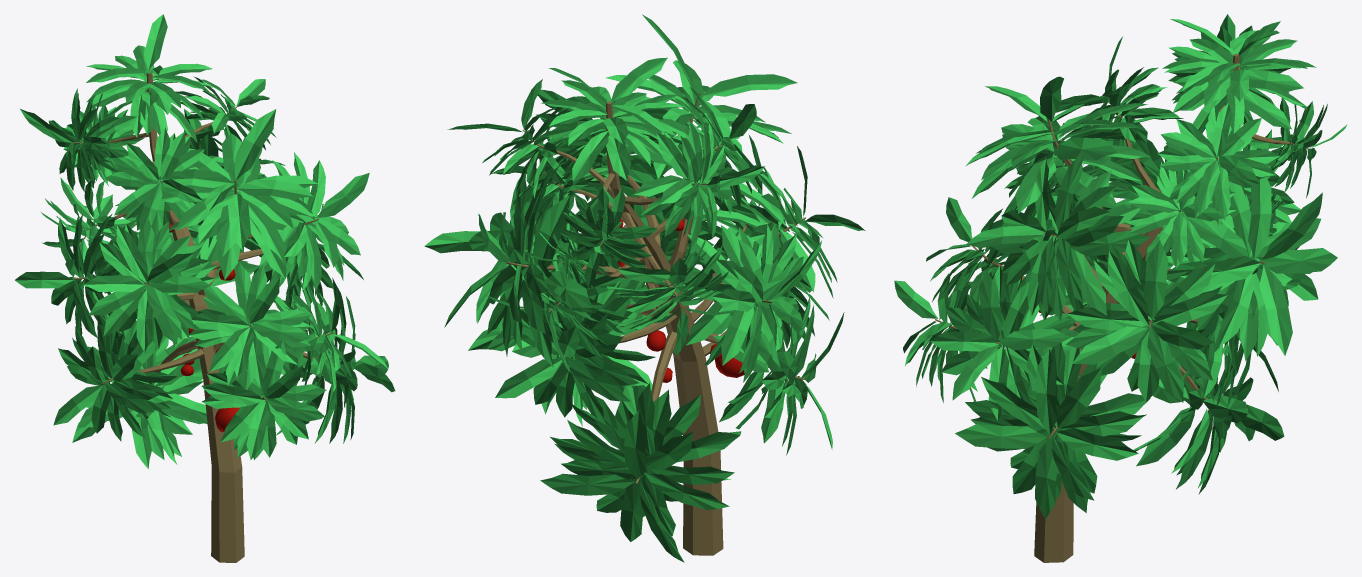
Rendered from Angiospermas.fbx.
3 views of the same model, side by side, from view 1: azimuth 30°, elevation 25°; view 2: azimuth 150°, elevation 25°; view 3: azimuth 270°, elevation 25° (orthographic). The views are drawn at different scales.
Parts seen in each view (by area): view 1: Cylinder; view 2: Cylinder; view 3: Cylinder.
Boxes of the visible parts, x1,y1,x2,y2 form: Cylinder: (15, 14, 395, 562); Cylinder: (424, 14, 865, 562); Cylinder: (894, 14, 1347, 562).
Size of the model in its own units: 274 by 380 by 288.
